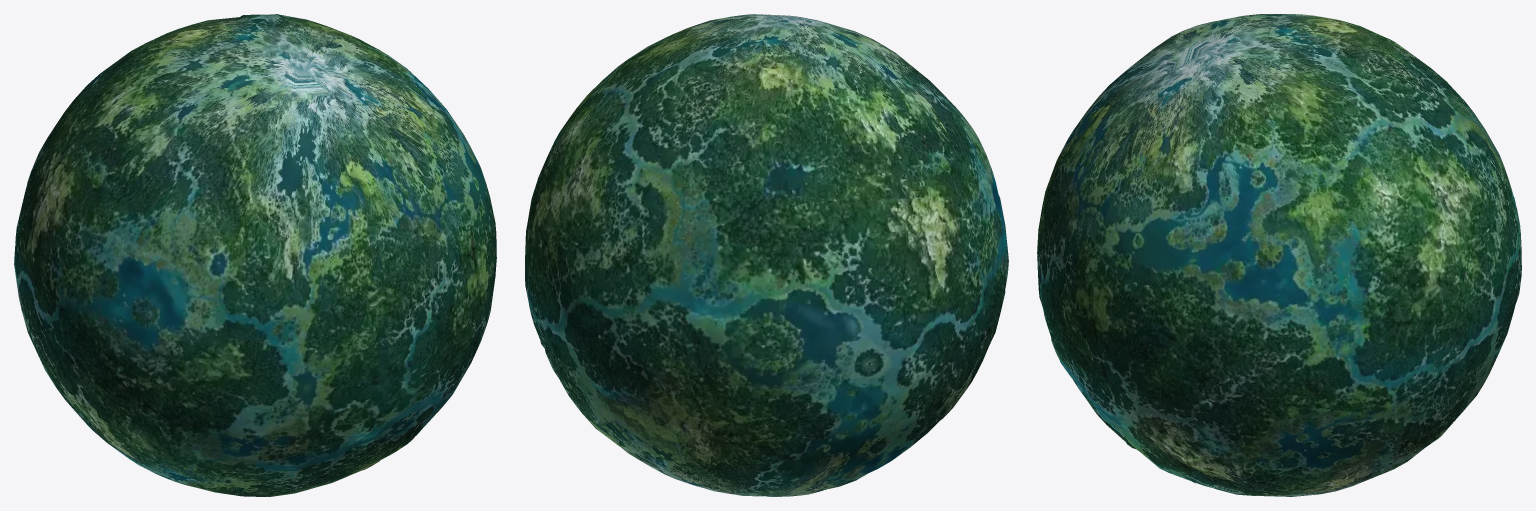
Rendered from planet_8.glb.
The picture shows the model from 3 angles, left to right: view 1: azimuth 30°, elevation 25°; view 2: azimuth 150°, elevation 25°; view 3: azimuth 270°, elevation 25°; orthographic projection.
Visible parts, largest first — view 1: Mesh_0.001; view 2: Mesh_0.001; view 3: Mesh_0.001.
Part boxes in pixels (x1,y1,x2,y2): Mesh_0.001: [14, 14, 496, 496]; Mesh_0.001: [525, 14, 1008, 496]; Mesh_0.001: [1037, 14, 1521, 496].
Size of the model in its own units: 1.9 by 1.9 by 1.9.
1 material, 1 textured.
